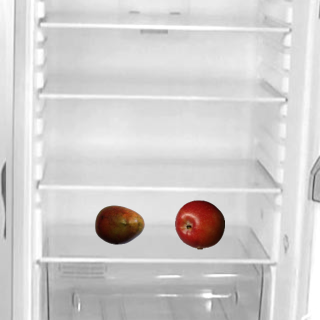Apple Braeburn: (174, 199, 224, 249)
Mango Red: (94, 199, 144, 249)
